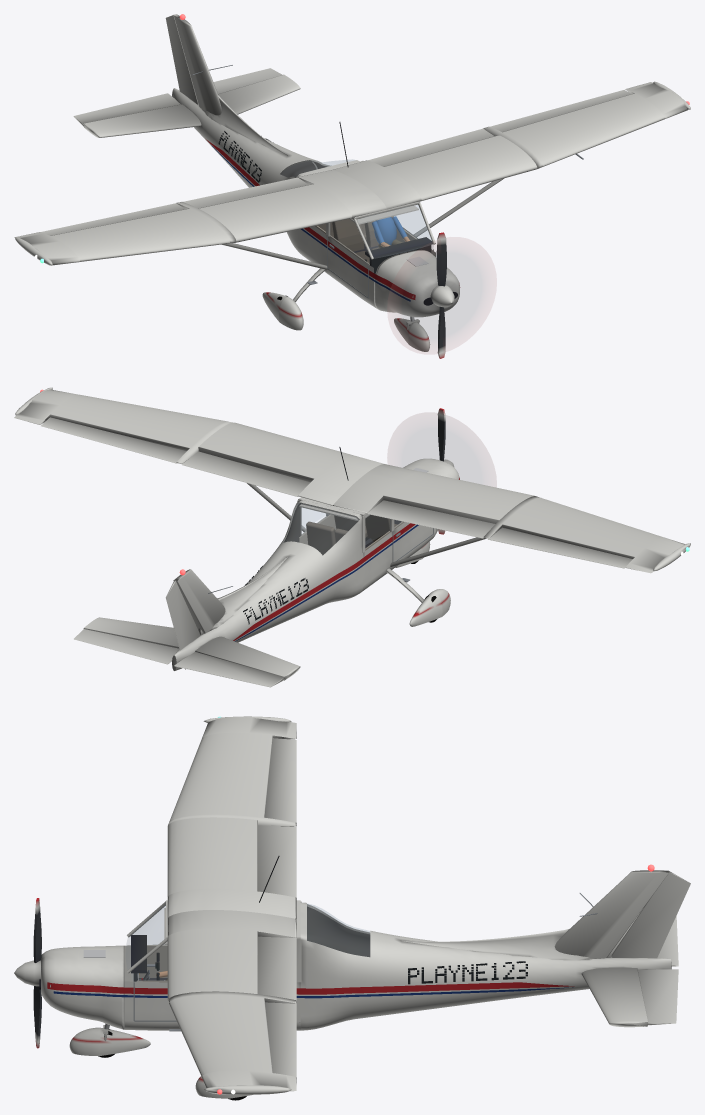
The picture shows the model from 3 angles, top to bottom: view 1: azimuth 30°, elevation 25°; view 2: azimuth 150°, elevation 25°; view 3: azimuth 270°, elevation 25°; orthographic projection. The views are drawn at different scales.
Parts seen in each view (by area): view 1: body, propDisc, canopy, flapL, elevR, flapR, ailL, ailR, rudder, prop, gearN, pilot (+1 smaller); view 2: body, propDisc, canopy, flapL, flapR, ailL, ailR, elevR, elevL, rudder; view 3: body, canopy, rudder, flapR, ailR, flapL, ailL, elevL, gearN, prop.
Boxes of the visible parts, x1,y1,x2,y2 form: body: [14, 14, 690, 330]; propDisc: [388, 237, 496, 353]; canopy: [281, 159, 433, 264]; flapL: [368, 128, 494, 166]; elevR: [73, 93, 180, 126]; flapR: [183, 177, 308, 208]; ailL: [489, 90, 631, 131]; ailR: [41, 203, 185, 235]; rudder: [165, 14, 197, 104]; prop: [436, 232, 446, 358]; gearN: [394, 316, 430, 351]; pilot: [371, 216, 410, 248]; body: [14, 387, 690, 680]; propDisc: [388, 413, 496, 486]; canopy: [282, 503, 402, 554]; flapL: [182, 451, 310, 496]; flapR: [367, 500, 495, 538]; ailL: [41, 417, 186, 463]; ailR: [487, 527, 632, 568]; elevR: [174, 651, 284, 687]; elevL: [74, 629, 178, 664]; rudder: [165, 580, 200, 669]; body: [14, 716, 671, 1098]; canopy: [126, 903, 369, 980]; rudder: [611, 871, 690, 958]; flapR: [258, 825, 296, 897]; ailR: [264, 738, 296, 822]; flapL: [258, 936, 296, 1000]; ailL: [265, 1002, 296, 1076]; elevL: [638, 969, 678, 1025]; gearN: [69, 1023, 150, 1056]; prop: [33, 898, 41, 1048].
Size of the model in its own units: 11.21 by 2.8 by 8.55.
